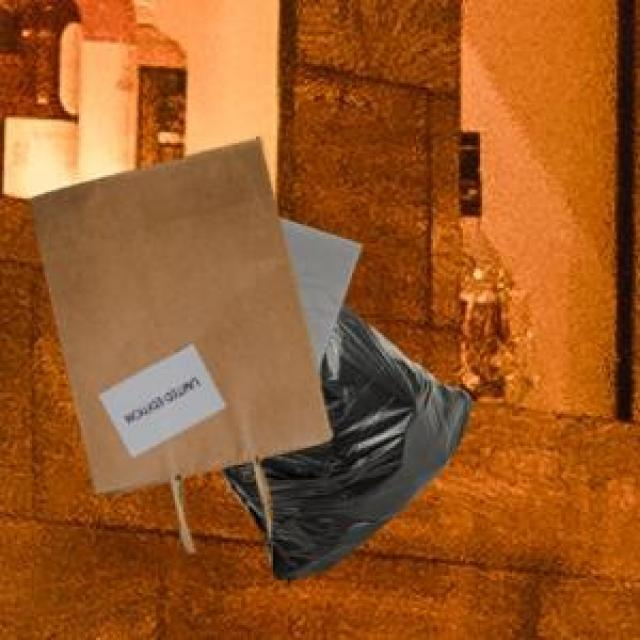miscellaneous trash: (218, 299, 469, 580)
paper: (28, 134, 329, 548), (275, 213, 358, 367)
